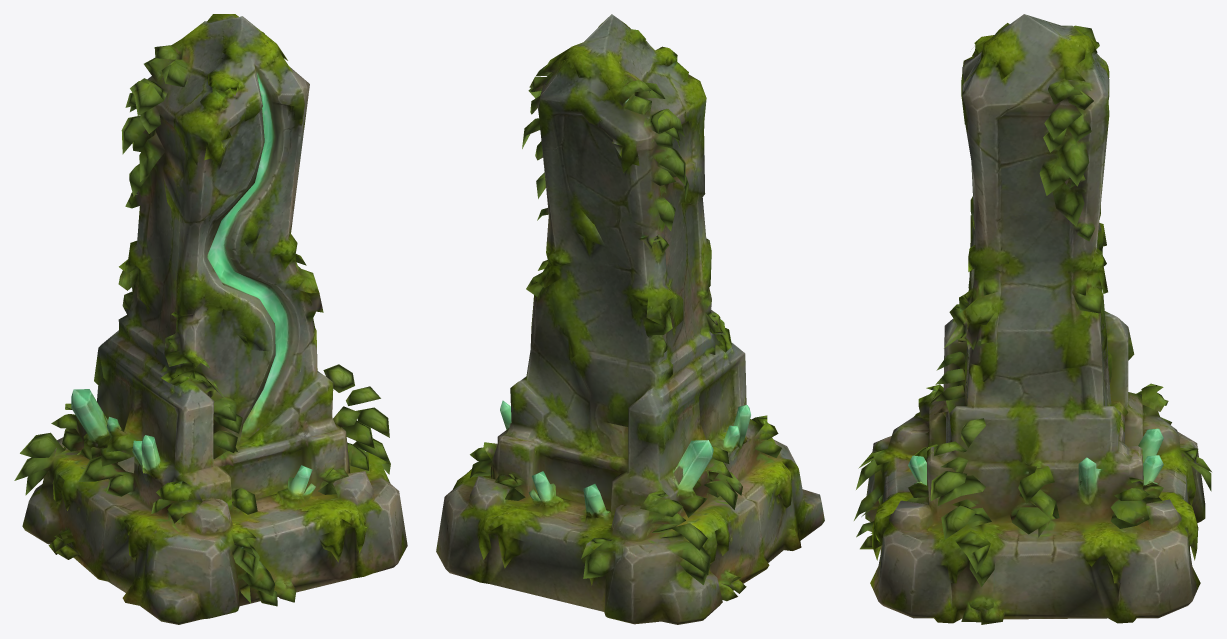
The model's file is lore_stone.fbx.
The picture shows the model from 3 angles, left to right: view 1: azimuth 30°, elevation 25°; view 2: azimuth 150°, elevation 25°; view 3: azimuth 270°, elevation 25°; orthographic projection. The views are drawn at different scales.
Parts seen in each view (by area): view 1: lore_stone; view 2: lore_stone; view 3: lore_stone.
Part boxes in pixels (box(x1,y1,x2,y2)): lore_stone: box(14, 14, 407, 624); lore_stone: box(436, 14, 824, 624); lore_stone: box(854, 14, 1211, 624).
Bounding box in the file's own units: 1.15 × 2 × 1.19.
Materials: 1 (1 with a texture image).
